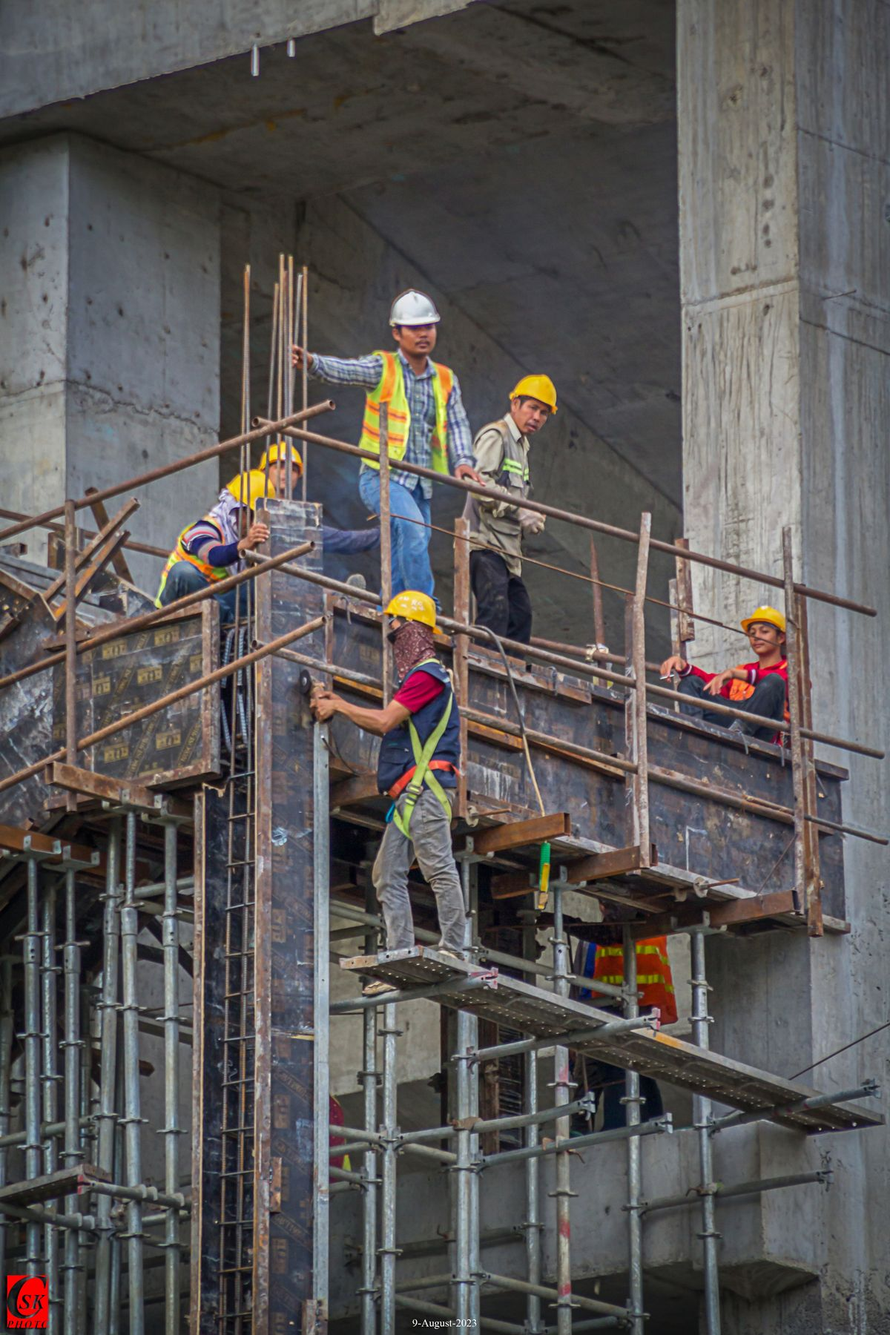hardhat: (497, 359, 574, 444), (369, 583, 462, 643), (226, 419, 301, 479), (727, 585, 793, 649), (367, 289, 448, 330)
no_safety_vest: (342, 655, 460, 781), (712, 655, 785, 711)
person: (286, 270, 497, 634), (313, 576, 466, 1003), (106, 405, 324, 632), (448, 355, 611, 655), (661, 572, 804, 742)
safety_vest: (353, 343, 454, 479), (160, 512, 253, 634), (483, 427, 551, 527)
